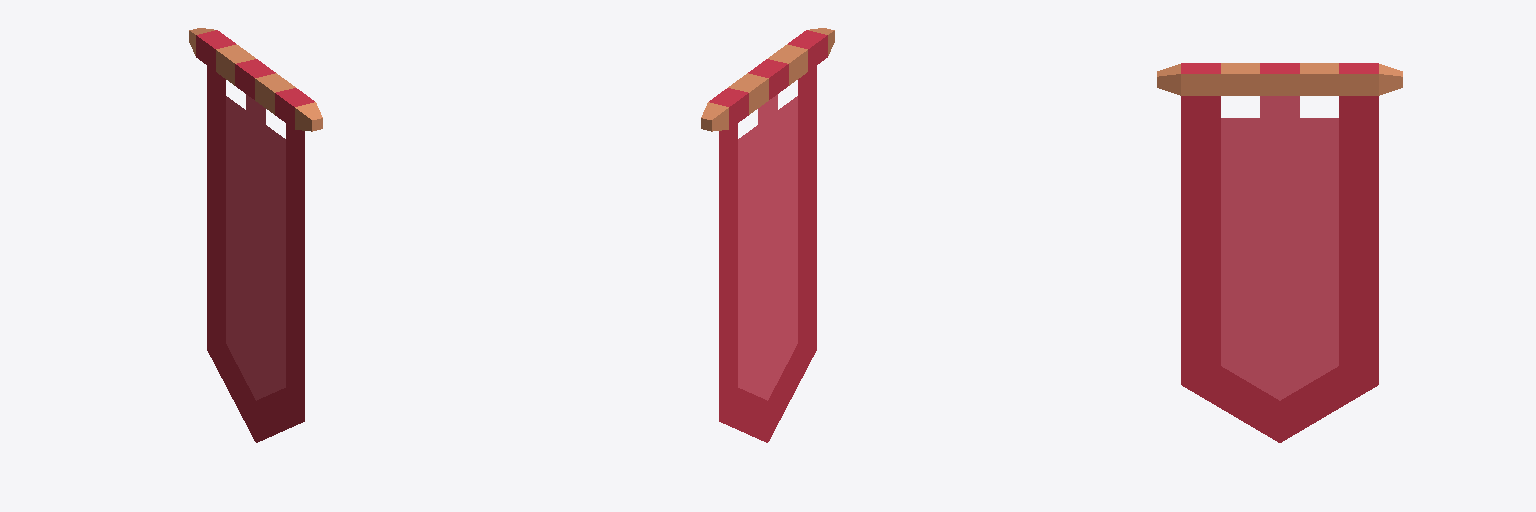
Rendered from bannerRed.obj.
3 views of the same model, side by side, from view 1: azimuth 30°, elevation 25°; view 2: azimuth 150°, elevation 25°; view 3: azimuth 270°, elevation 25° (orthographic).
Parts seen in each view (by area): view 1: bannerRed; view 2: bannerRed; view 3: bannerRed.
Boxes of the visible parts, x1=… form: bannerRed: x1=189, y1=28, x2=322, y2=442; bannerRed: x1=701, y1=28, x2=834, y2=442; bannerRed: x1=1157, y1=63, x2=1402, y2=442.
Size of the model in its own units: 0.05 by 0.8394 by 0.5.